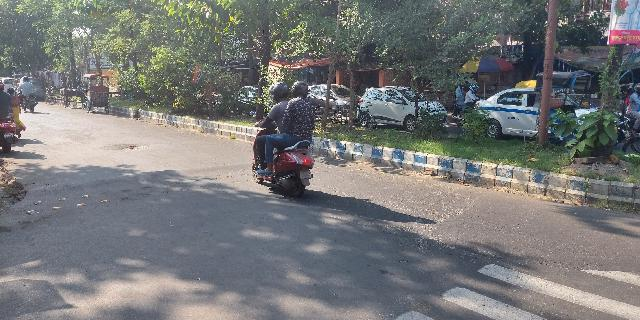Motorbike: (243, 79, 319, 202), (15, 71, 42, 115)
Rickshaw: (80, 71, 112, 116)
